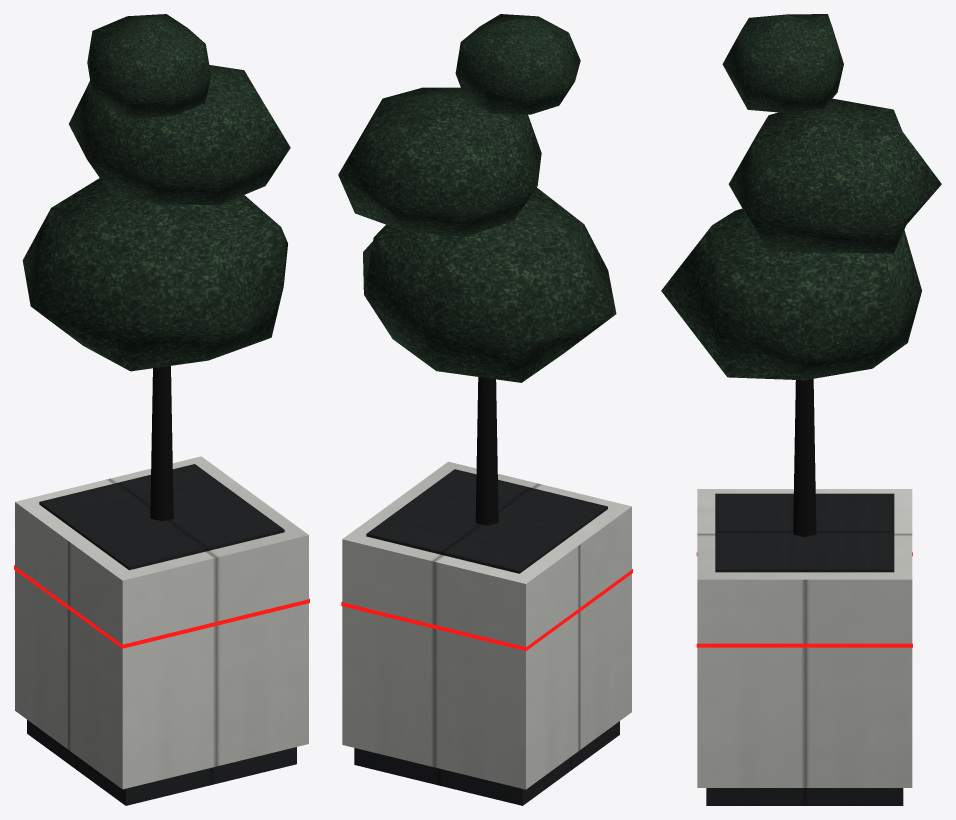
Rendered from SM_LFD_Planter_Tall.fbx.
3 views of the same model, side by side, from view 1: azimuth 30°, elevation 25°; view 2: azimuth 150°, elevation 25°; view 3: azimuth 270°, elevation 25° (orthographic).
Parts seen in each view (by area): view 1: SM_LFD_Planter_Tall_LOD0; view 2: SM_LFD_Planter_Tall_LOD0; view 3: SM_LFD_Planter_Tall_LOD0.
Boxes of the visible parts, x1=… form: SM_LFD_Planter_Tall_LOD0: x1=14, y1=14, x2=309, y2=805; SM_LFD_Planter_Tall_LOD0: x1=338, y1=14, x2=632, y2=805; SM_LFD_Planter_Tall_LOD0: x1=661, y1=14, x2=941, y2=805.
Size of what is drawn, in the model's own units: 0.9937 by 2.73 by 0.9408.
